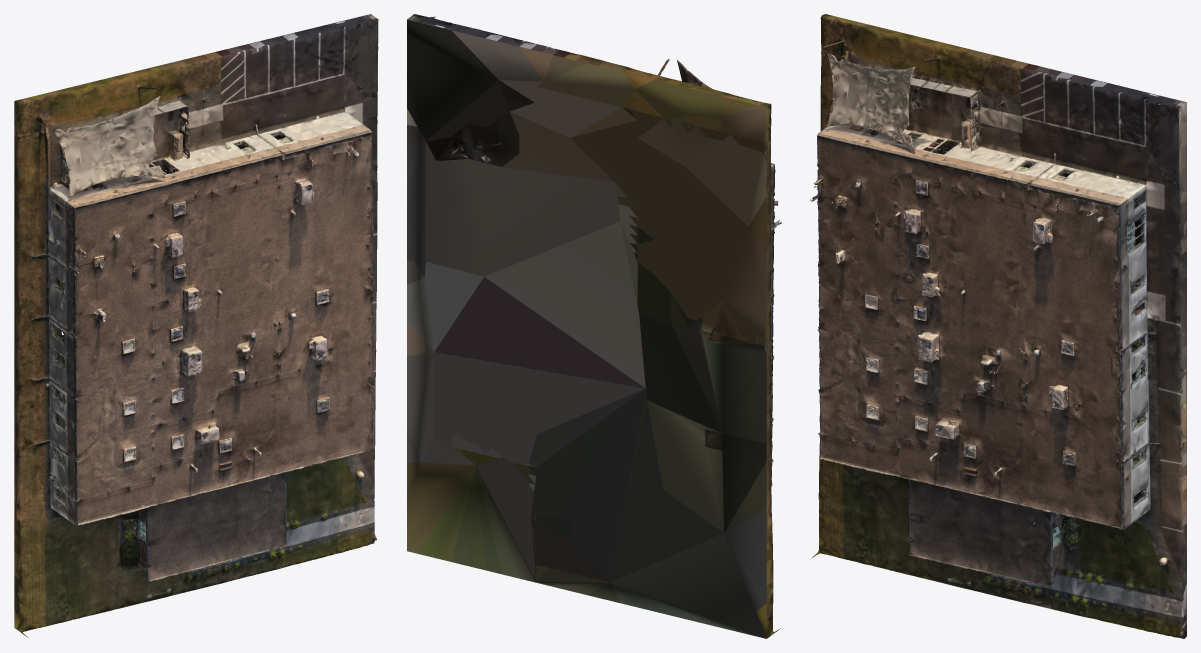
3 renders of one model, left to right at view 1: azimuth 30°, elevation 25°; view 2: azimuth 150°, elevation 25°; view 3: azimuth 330°, elevation 25°, orthographic.
Parts seen in each view (by area): view 1: Mesh_0_Part_0; view 2: Mesh_0_Part_0; view 3: Mesh_0_Part_0.
Boxes of the visible parts, <box> form: Mesh_0_Part_0: <box>14,14,378,637</box>; Mesh_0_Part_0: <box>407,14,781,638</box>; Mesh_0_Part_0: <box>810,14,1186,638</box>.
Size of the model in its own units: 36.62 by 51.75 by 7.47.
Materials: 1 (1 with a texture image).
